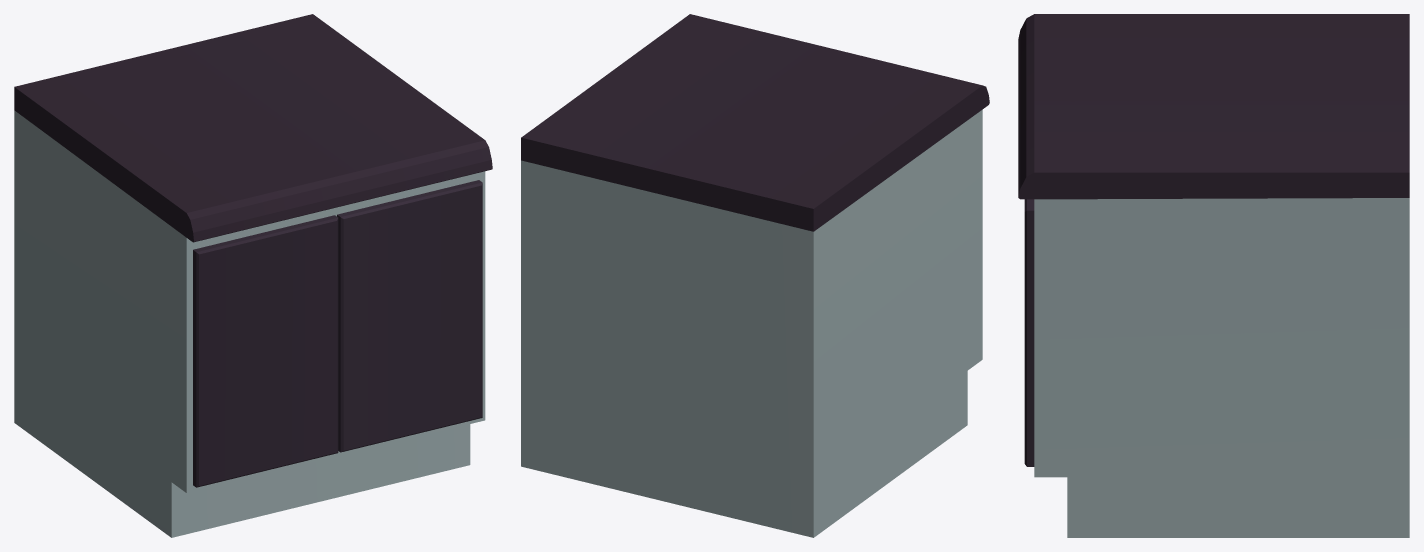
The model's file is Counter_Drawers.fbx.
The picture shows the model from 3 angles, left to right: view 1: azimuth 30°, elevation 25°; view 2: azimuth 150°, elevation 25°; view 3: azimuth 270°, elevation 25°; orthographic projection. The views are drawn at different scales.
Visible parts, largest first — view 1: Counter.Drawers; view 2: Counter.Drawers; view 3: Counter.Drawers.
Boxes of the visible parts, bbox=[...] form: Counter.Drawers: bbox=[14, 14, 492, 537]; Counter.Drawers: bbox=[521, 14, 989, 537]; Counter.Drawers: bbox=[1018, 14, 1409, 537].
Bounding box in the file's own units: 300 × 322 × 313.
